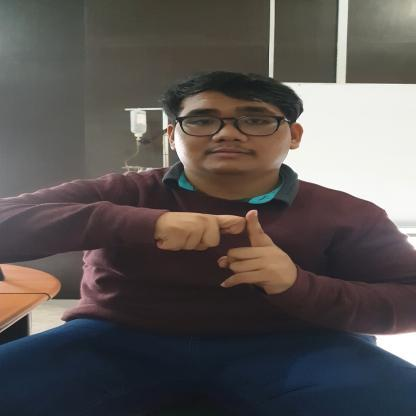K: (146, 206, 303, 296)
